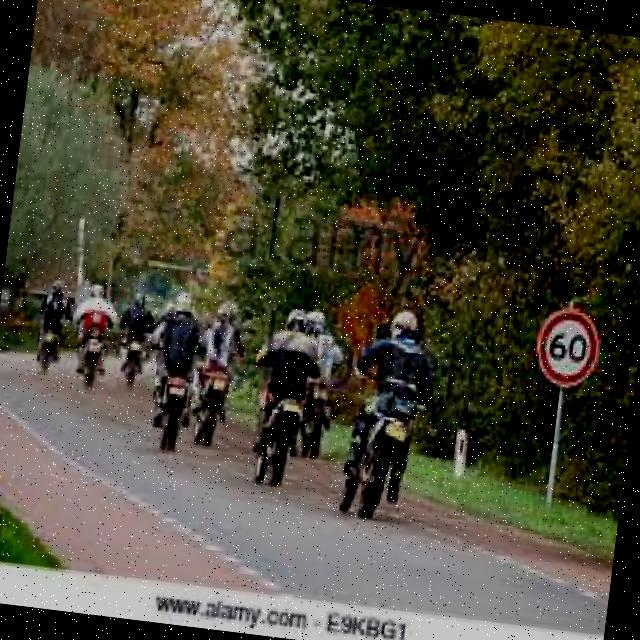Ograniczenie predkosci do 60: (529, 301, 605, 397)
